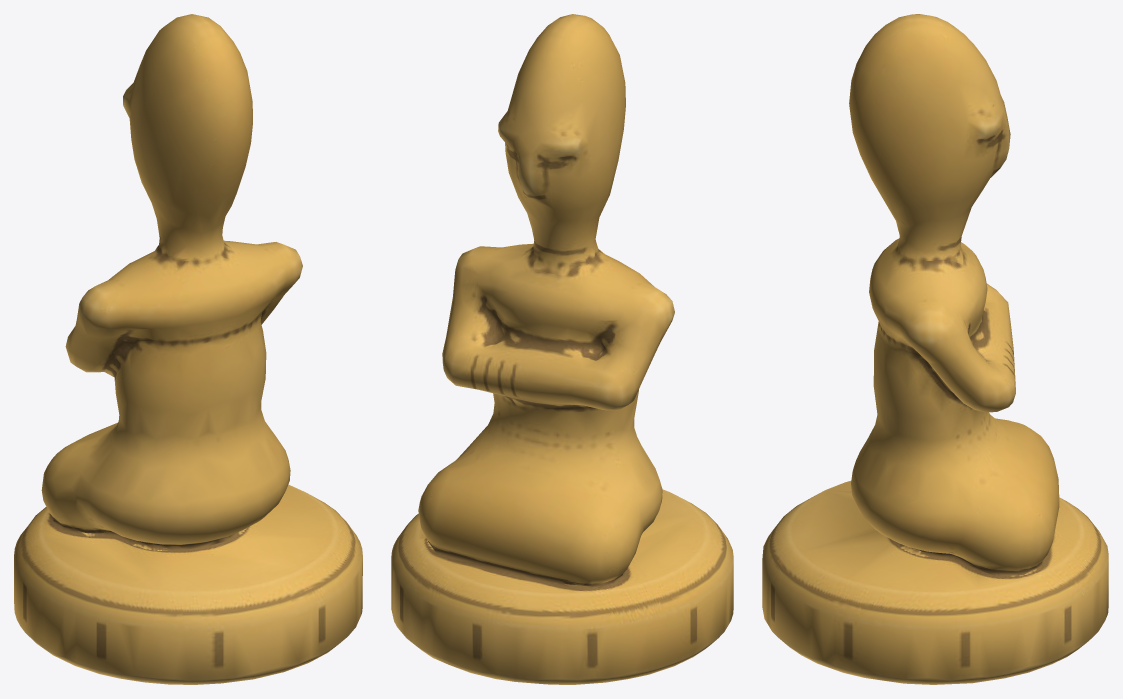
File: idol_gold.glb
3 renders of one model, left to right at view 1: azimuth 30°, elevation 25°; view 2: azimuth 150°, elevation 25°; view 3: azimuth 270°, elevation 25°, orthographic.
Parts seen in each view (by area): view 1: idol_gold; view 2: idol_gold; view 3: idol_gold.
Boxes of the visible parts, box(x1,y1,x2,y2) form: idol_gold: box(14, 14, 362, 684); idol_gold: box(391, 14, 733, 684); idol_gold: box(762, 14, 1108, 684).
Size of the model in its own units: 0.1573 by 0.2999 by 0.1573.
1 material, 1 textured.
